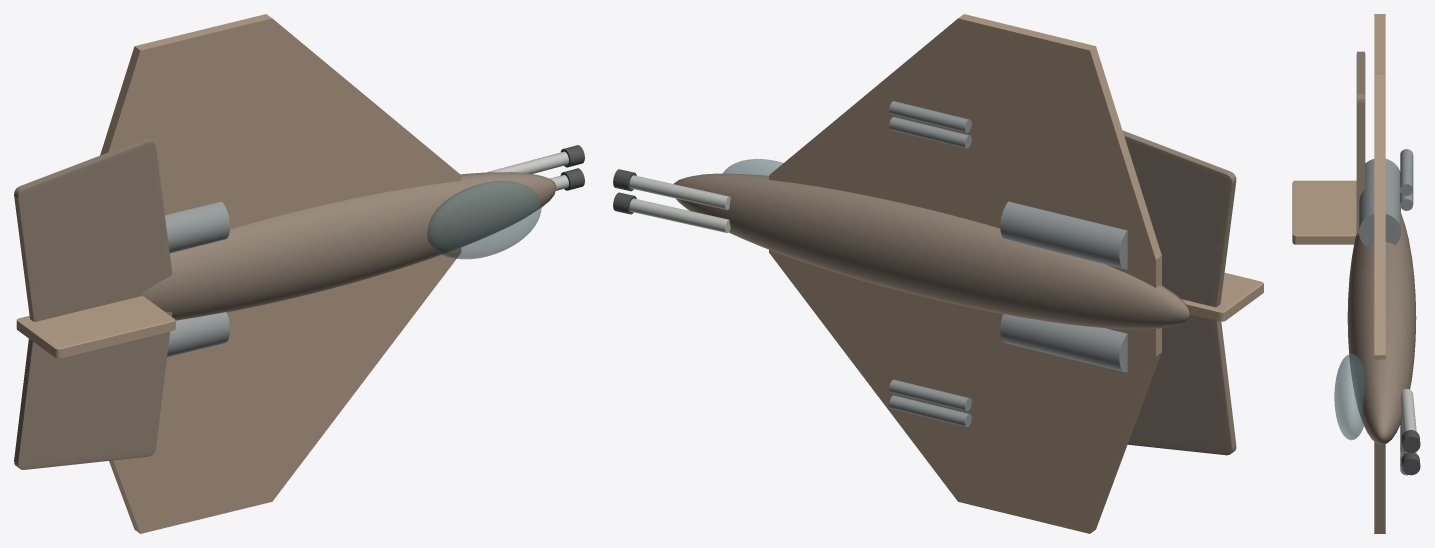
Rendered from d-u26-dominion-bomber-lod1.glb.
The picture shows the model from 3 angles, left to right: view 1: azimuth 30°, elevation 25°; view 2: azimuth 150°, elevation 25°; view 3: azimuth 270°, elevation 25°; orthographic projection. The views are drawn at different scales.
Visible parts, largest first — view 1: combat_main_wing, combat_fuselage, combat_tailplane_1, combat_tailplane_-1, combat_canopy, combat_fin_0, combat_engine_2, combat_engine_0, combat_gun_barrel_1; view 2: combat_main_wing, combat_fuselage, combat_tailplane_1, combat_tailplane_-1, combat_engine_2, combat_engine_0, combat_fin_0, combat_gun_barrel_0, combat_gun_barrel_1, combat_-1_tube_2, combat_1_tube_1, combat_-1_tube_1 (+1 smaller); view 3: combat_fuselage, combat_main_wing, combat_fin_0, combat_engine_2, combat_canopy, combat_tailplane_1, combat_1_tube_2, combat_gun_barrel_1, combat_gun_muzzle_1, combat_gun_muzzle_0, combat_1_tube_1.
Part boxes in pixels (<box>): combat_main_wing: <box>100,14,461,533</box>; combat_fuselage: <box>139,172,556,320</box>; combat_tailplane_1: <box>14,138,172,321</box>; combat_tailplane_-1: <box>14,311,172,469</box>; combat_canopy: <box>427,181,541,259</box>; combat_fin_0: <box>16,296,175,358</box>; combat_engine_2: <box>165,201,230,253</box>; combat_engine_0: <box>167,312,230,357</box>; combat_gun_barrel_1: <box>486,151,568,173</box>; combat_main_wing: <box>769,14,1161,533</box>; combat_fuselage: <box>674,173,1189,329</box>; combat_tailplane_1: <box>1122,130,1236,307</box>; combat_tailplane_-1: <box>1127,303,1236,455</box>; combat_engine_2: <box>1000,201,1127,269</box>; combat_engine_0: <box>1000,314,1127,372</box>; combat_fin_0: <box>1181,273,1263,321</box>; combat_gun_barrel_0: <box>629,198,730,232</box>; combat_gun_barrel_1: <box>629,175,730,209</box>; combat_-1_tube_2: <box>889,379,971,411</box>; combat_1_tube_1: <box>889,117,971,148</box>; combat_-1_tube_1: <box>889,395,971,427</box>; combat_fuselage: <box>1347,213,1416,444</box>; combat_main_wing: <box>1374,14,1385,533</box>; combat_fin_0: <box>1292,180,1356,244</box>; combat_engine_2: <box>1359,159,1400,246</box>; combat_canopy: <box>1334,354,1364,440</box>; combat_tailplane_1: <box>1356,51,1365,235</box>; combat_1_tube_2: <box>1400,149,1413,195</box>; combat_gun_barrel_1: <box>1401,389,1416,432</box>; combat_gun_muzzle_1: <box>1401,430,1420,453</box>; combat_gun_muzzle_0: <box>1401,452,1420,475</box>; combat_1_tube_1: <box>1400,190,1413,210</box>.
Size of what is drawn, in the model's own units: 17.08 by 13.36 by 3.38.
